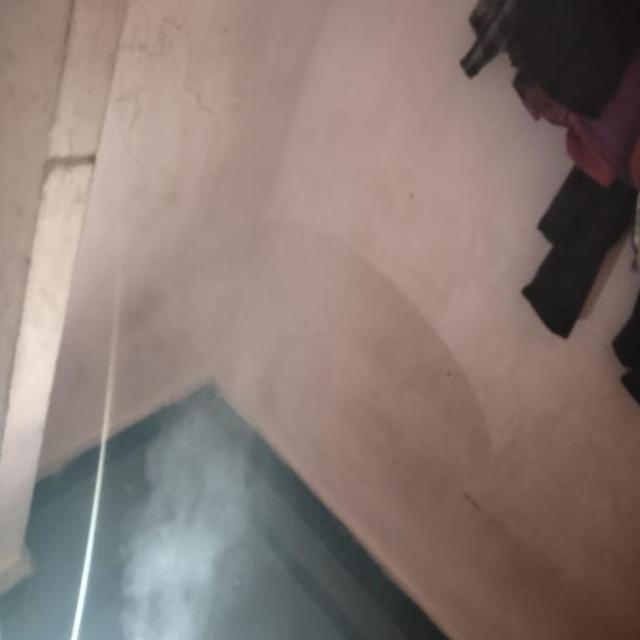fire: (117, 349, 252, 640)
